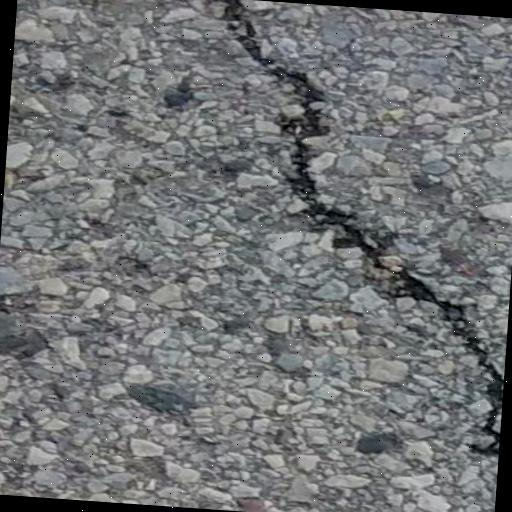spalling: (212, 2, 503, 462)
